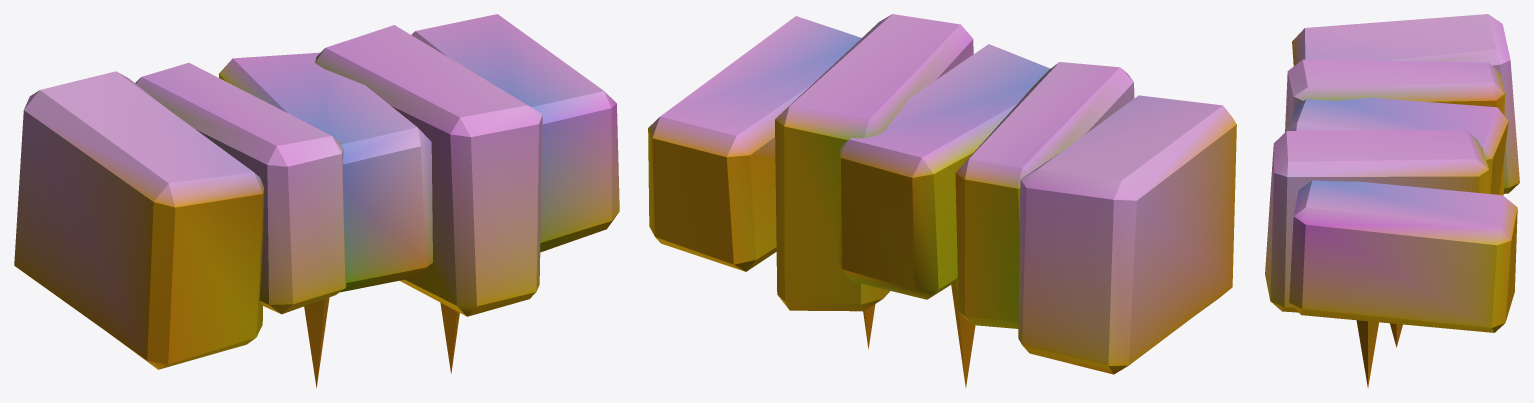
Rendered from env_lip_rock.glb.
3 renders of one model, left to right at view 1: azimuth 30°, elevation 25°; view 2: azimuth 150°, elevation 25°; view 3: azimuth 270°, elevation 25°, orthographic. The views are drawn at different scales.
Parts seen in each view (by area): view 1: env_lip_rock; view 2: env_lip_rock; view 3: env_lip_rock.
Boxes of the visible parts, box(x1,y1,x2,y2) form: env_lip_rock: box(14, 14, 619, 387); env_lip_rock: box(648, 14, 1236, 387); env_lip_rock: box(1265, 14, 1519, 387).
Size of the model in its own units: 1.27 by 0.7626 by 0.7159.
